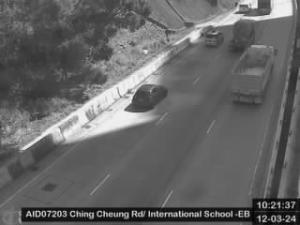bus: (258, 0, 274, 14)
truck: (228, 45, 276, 105), (234, 20, 256, 50)
vehicle: (228, 45, 276, 105), (132, 84, 168, 108), (205, 29, 224, 47), (238, 1, 252, 12)
